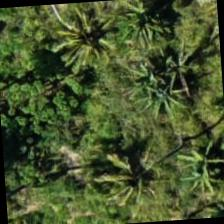Kelapa_Sawit: (86, 129, 184, 223), (36, 0, 133, 92)
